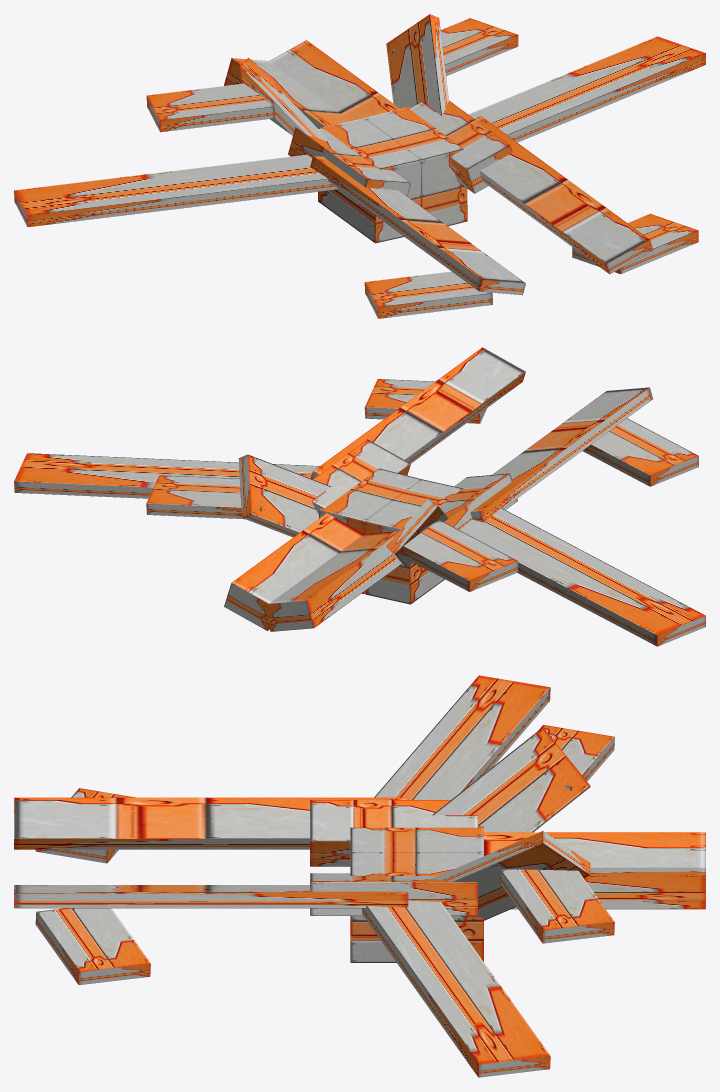
File: E_shipclass3.fbx
3 views of the same model, one above another, from view 1: azimuth 30°, elevation 25°; view 2: azimuth 150°, elevation 25°; view 3: azimuth 270°, elevation 25° (orthographic). The views are drawn at different scales.
Parts seen in each view (by area): view 1: Enemyship03; view 2: Enemyship03; view 3: Enemyship03.
Boxes of the visible parts, x1,y1,x2,y2 form: Enemyship03: (14, 14, 705, 318); Enemyship03: (14, 347, 705, 646); Enemyship03: (14, 675, 705, 1077).
Size of the model in its own units: 832 by 160 by 631.
Materials: 1 (1 with a texture image).
